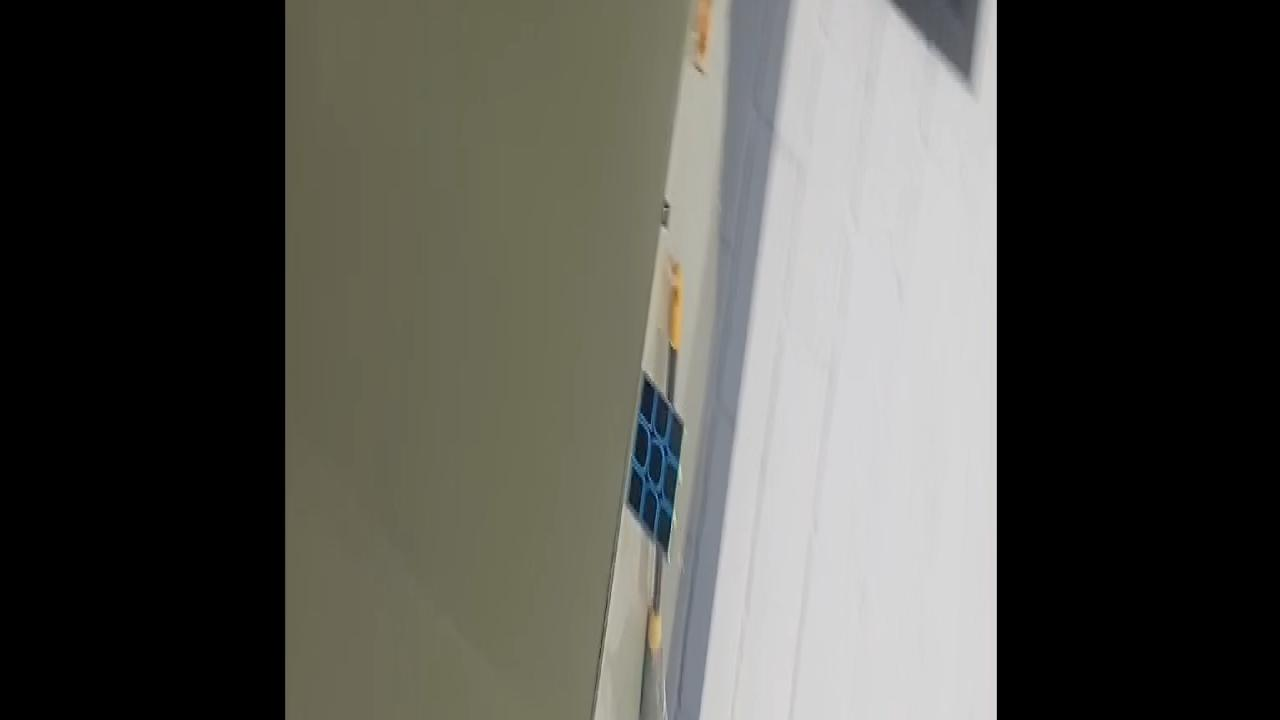Cube: (624, 366, 685, 560)
